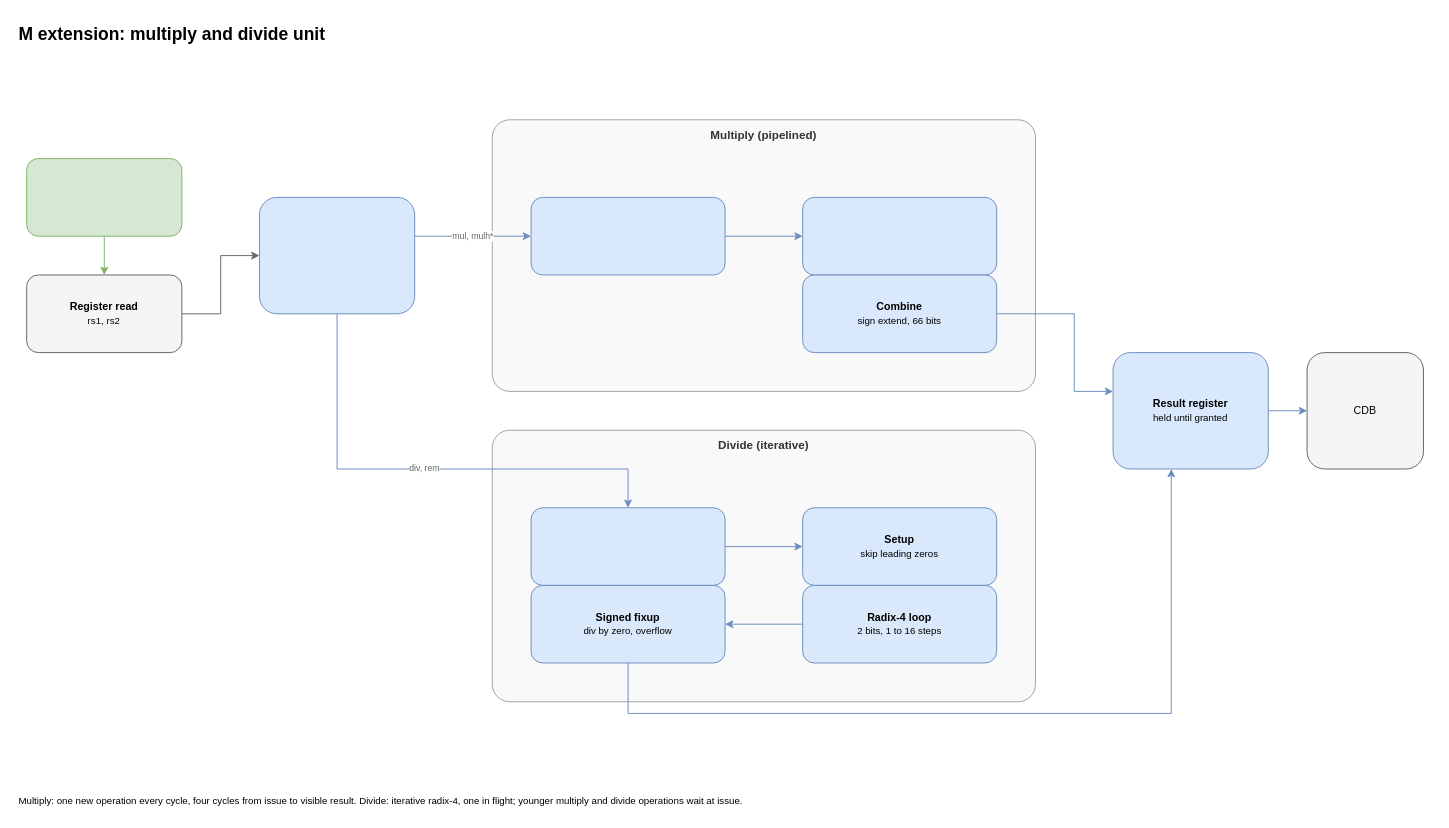
Image size: 1449x828. Some labels were removed from this diagram. Each missing label, with the box of its shape:
Absolute values sign saved: (530, 507, 725, 585)
Input register funct3, tags: (259, 196, 415, 314)
Operand split b at bit 17: (530, 196, 725, 275)
Partial products two, registered: (802, 196, 997, 275)
Scheduler port 2, oldest ready: (26, 158, 182, 236)
